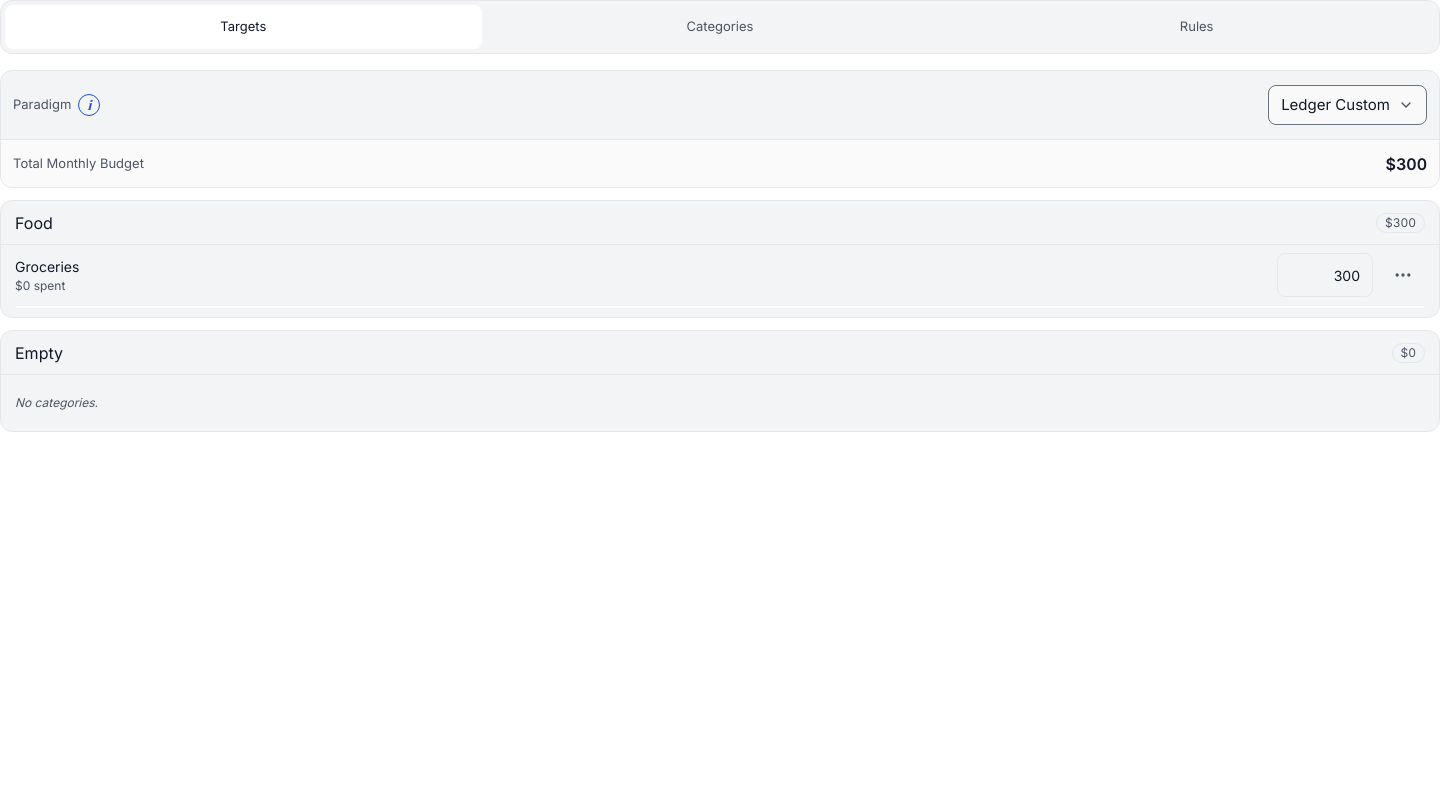
Test case: BudgetSetupMobile › explains the payment choices behind an info button, including what Auto found
Click the button named "Groceries options" at (1403, 275), box [1381,253,1425,297]
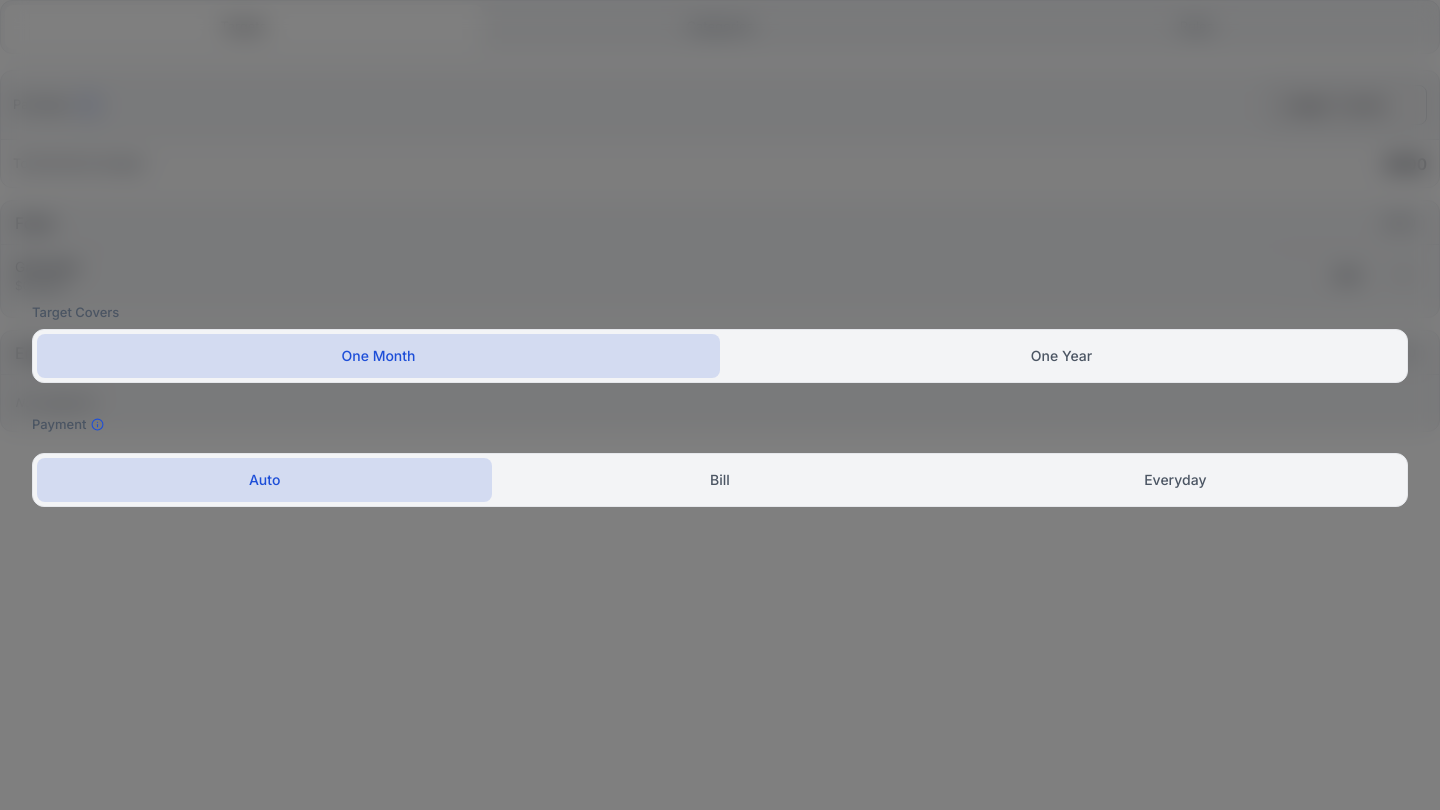
Check: the text "nearly all of it is monthly recurring payments" is not shown
Click the button named "About Payment" at (97, 425), box [75,403,119,447]
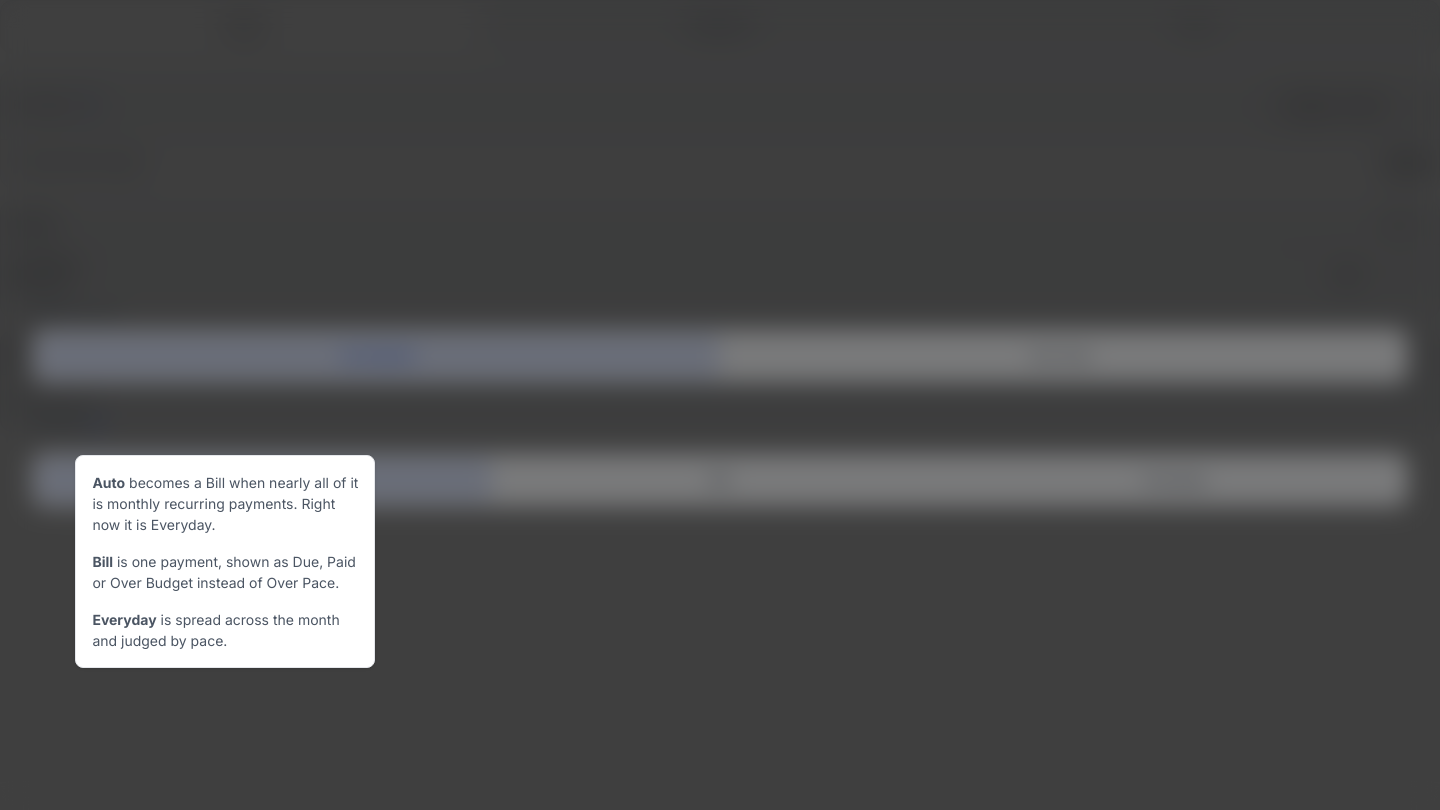
Check: the text "nearly all of it is monthly recurring payments. Right now it is Everyday." is shown, box [92,472,358,535]
